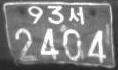0: (62, 28, 82, 61)
2: (14, 27, 35, 60)
3: (46, 5, 64, 25)
4: (87, 29, 106, 63), (40, 27, 59, 60)
9: (27, 5, 43, 23)
서: (68, 6, 84, 25)
